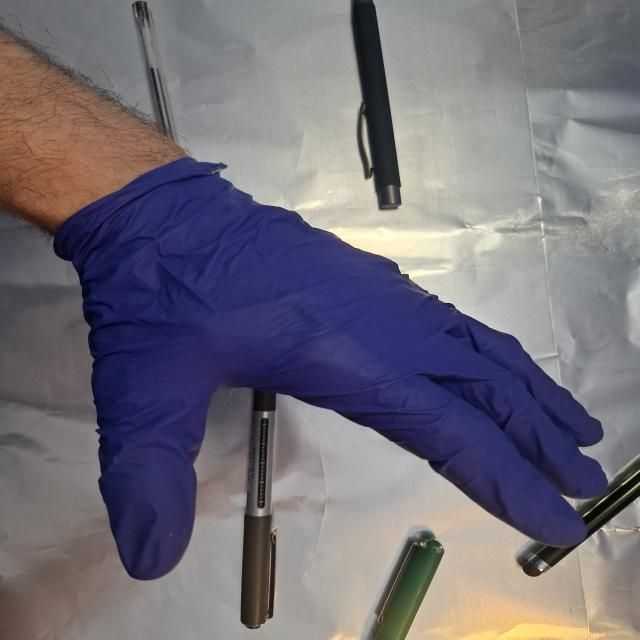glove_on: (54, 158, 613, 583)
